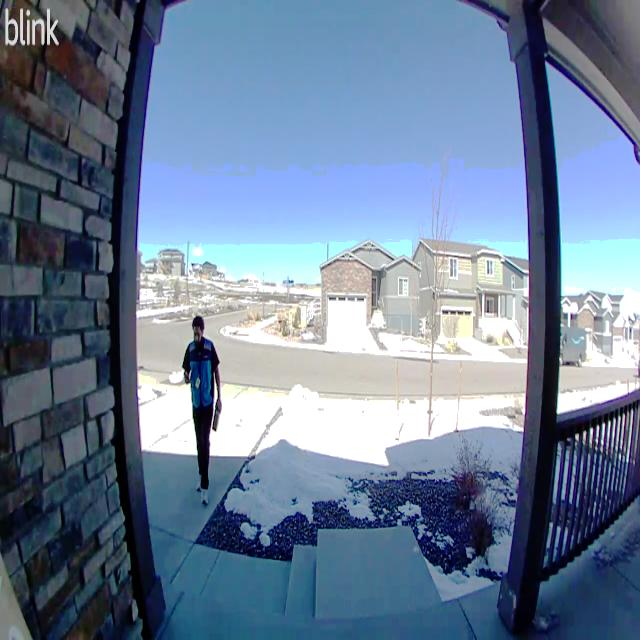Box: (213, 401, 223, 431)
